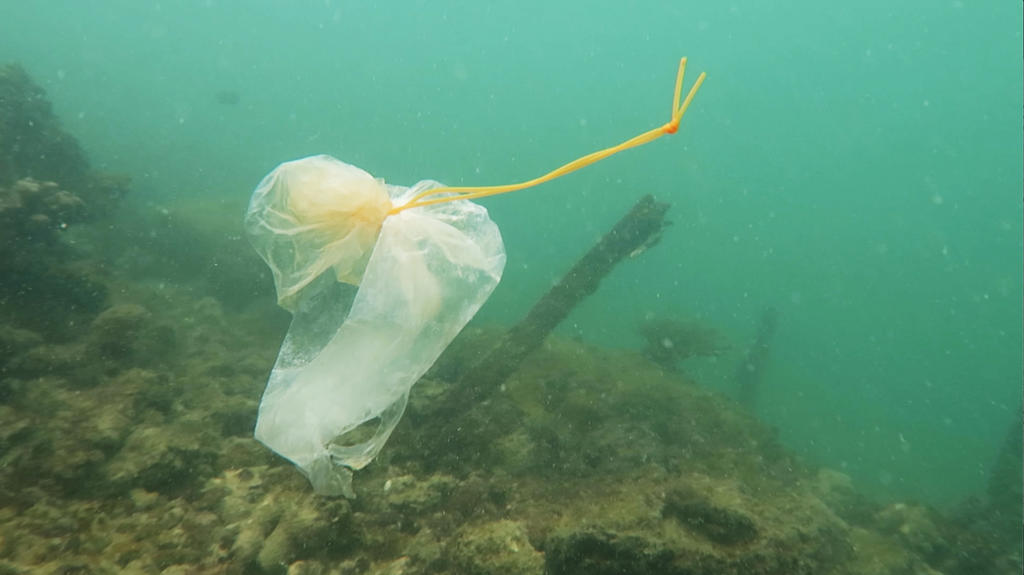plastic_bagwdw: (178, 72, 767, 570)
